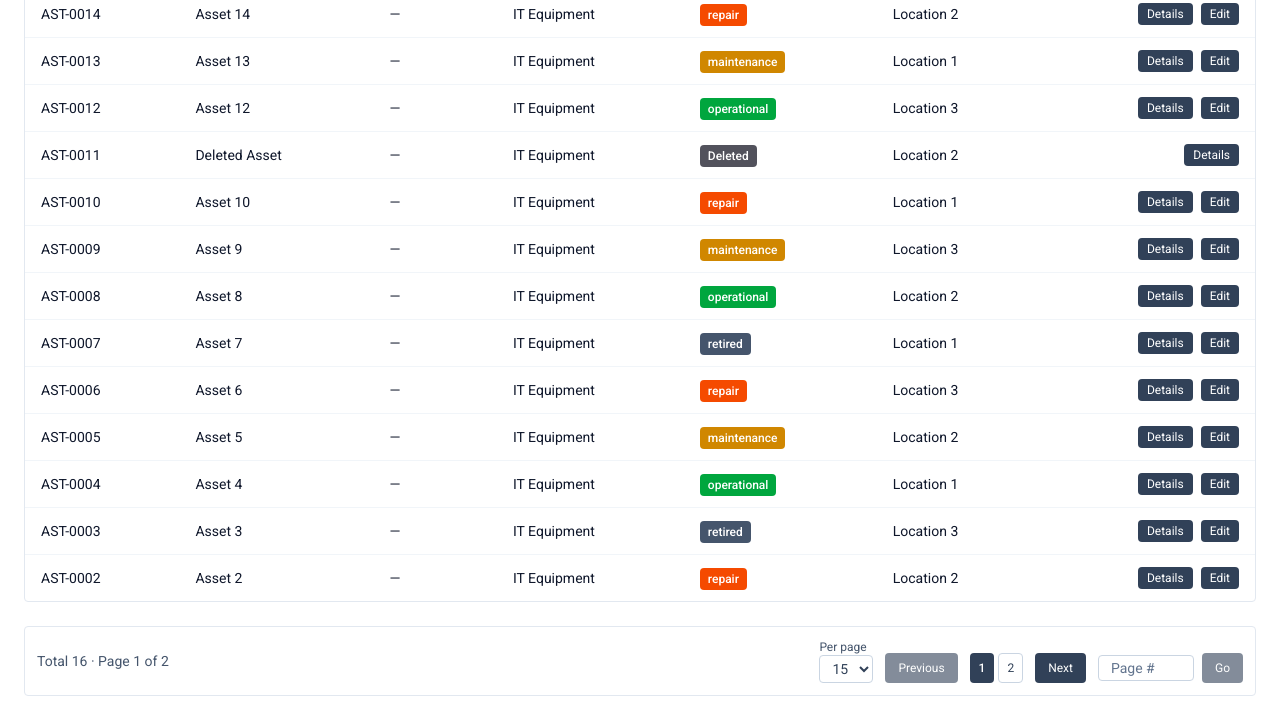
Test: Assets page › AS01 – renders asset list, paginates and searches
(page scrolled)
Check: the text "Deleted Asset" is shown, box [179, 132, 374, 178]
Check: the text "Total 16 · Page 1 of 2" is shown, box [37, 651, 169, 671]
Step 1. Click the button "Next" → click(1061, 668), box [1035, 653, 1086, 683]
(page scrolled)
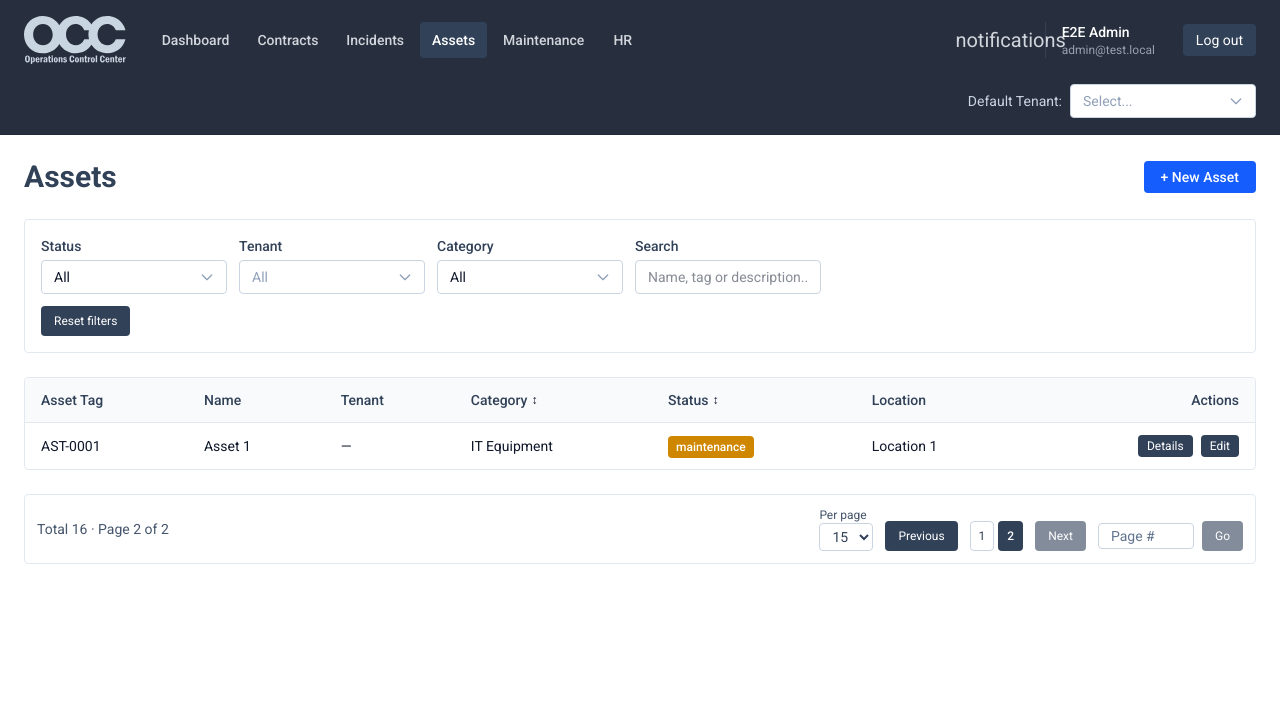
Check: the text "Asset 1" is shown, box [188, 422, 325, 469]
Check: the text "Total 16 · Page 2 of 2" is shown, box [37, 519, 169, 539]
Step 2. Type "Deleted" into the field with placeholder "Name, tag or description..." → (728, 277), box [635, 260, 821, 294]
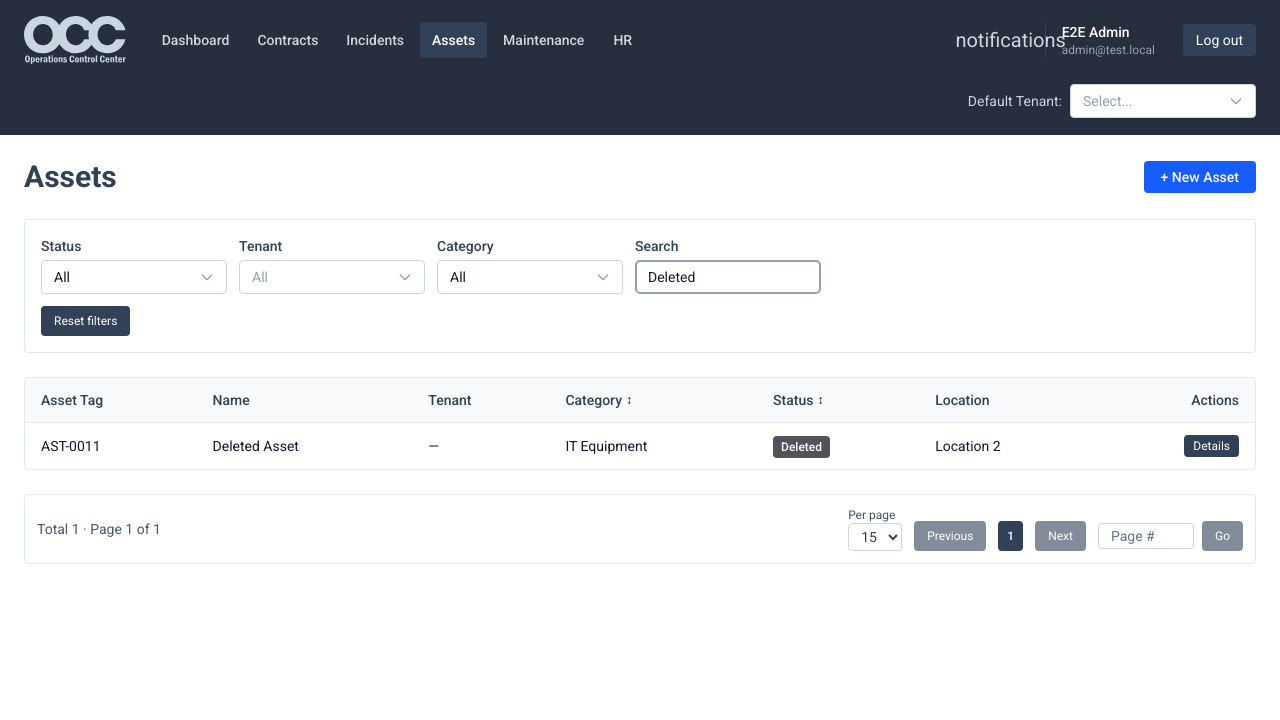
Check: the text "Total 1 · Page 1 of 1" is shown, box [37, 519, 161, 539]
Check: the text "Deleted Asset" is shown, box [196, 422, 412, 469]
